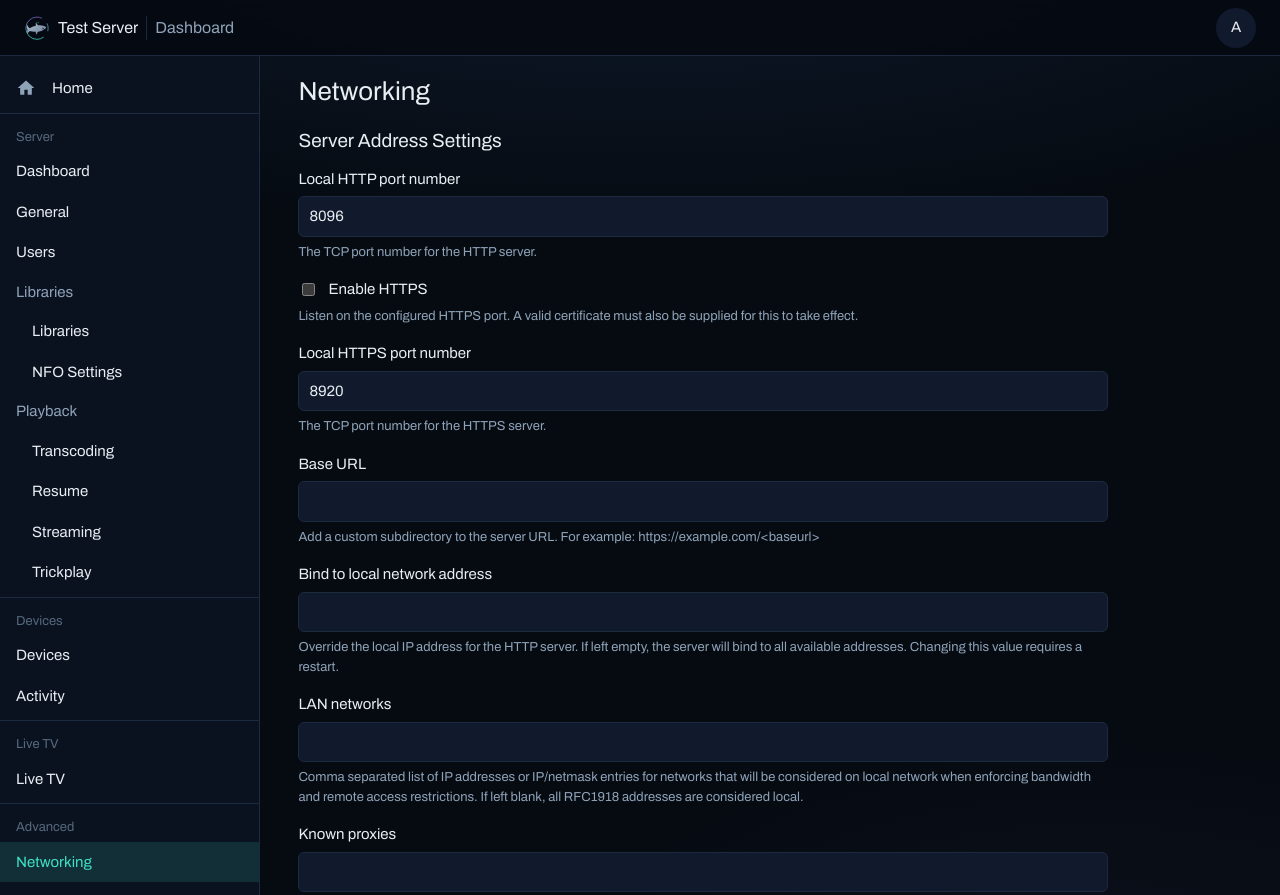
Scenario: networking › saves lists from comma-separated text and keeps fields it does not show
Type "10.0.0.1, proxy.lan," into the field labelled "Known proxies" at point(703, 872), box [298,852,1108,892]
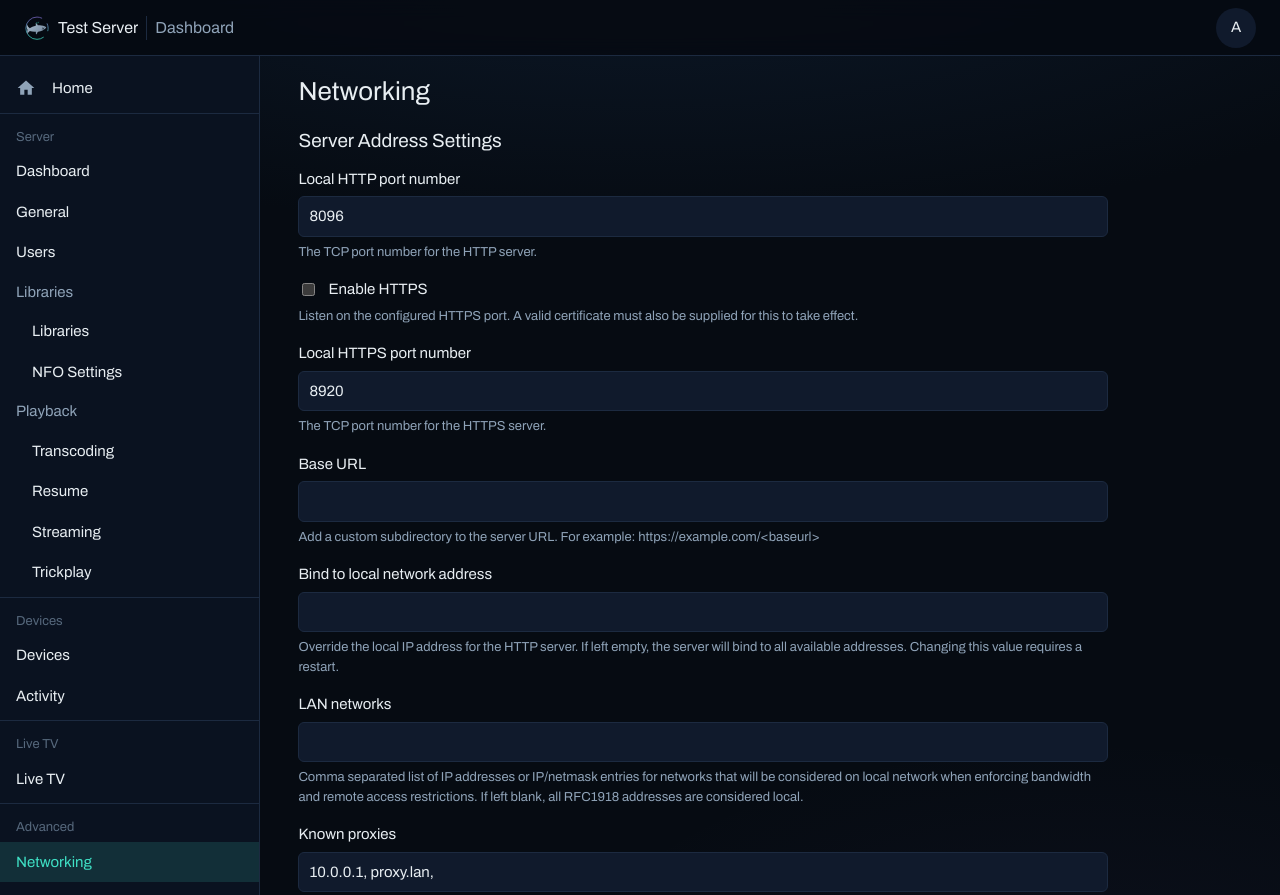
Replace the text in the number field labelled "Local HTTP port number" with "8097" at point(703, 216), box [298,196,1108,236]
(page scrolled)
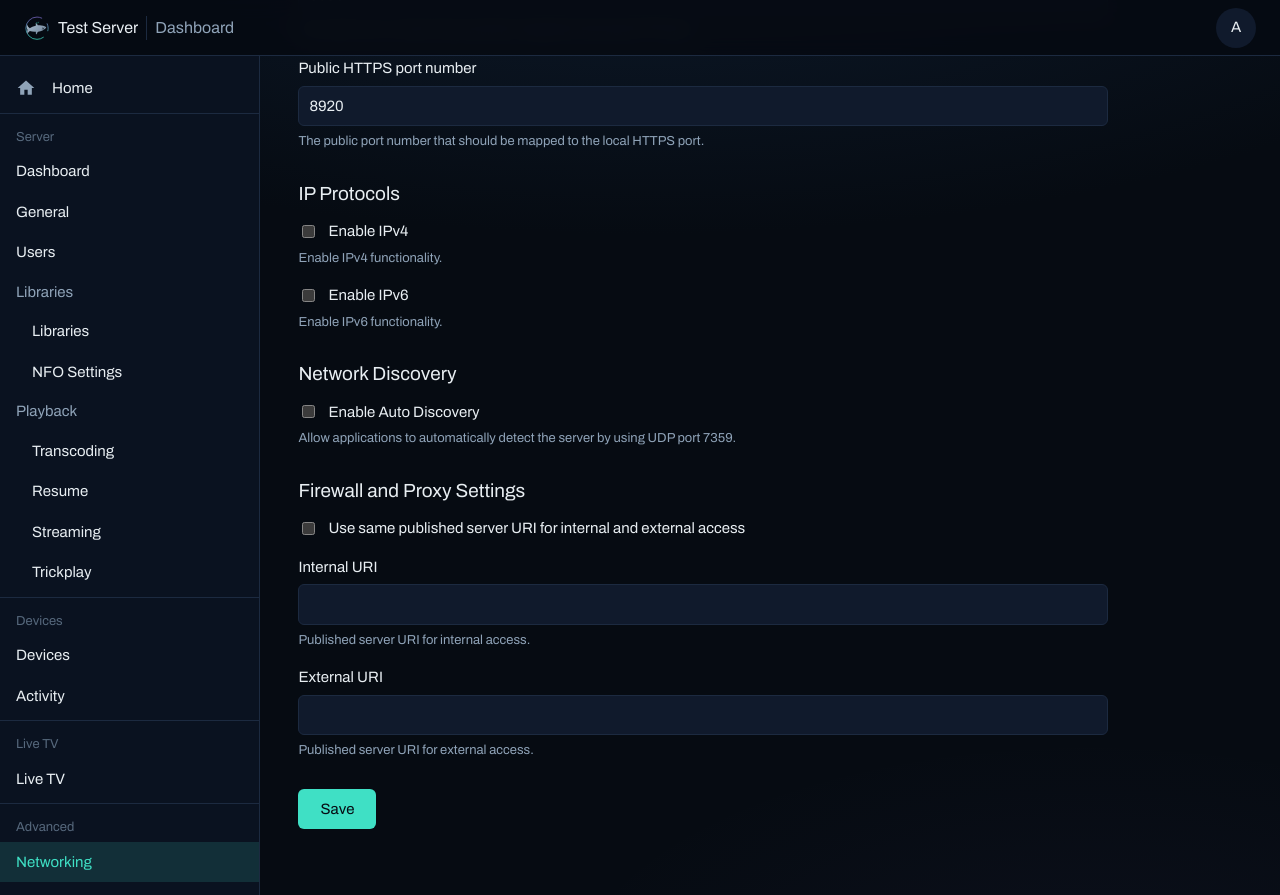
Click the button "Save" at point(337, 809), box [298,788,376,829]
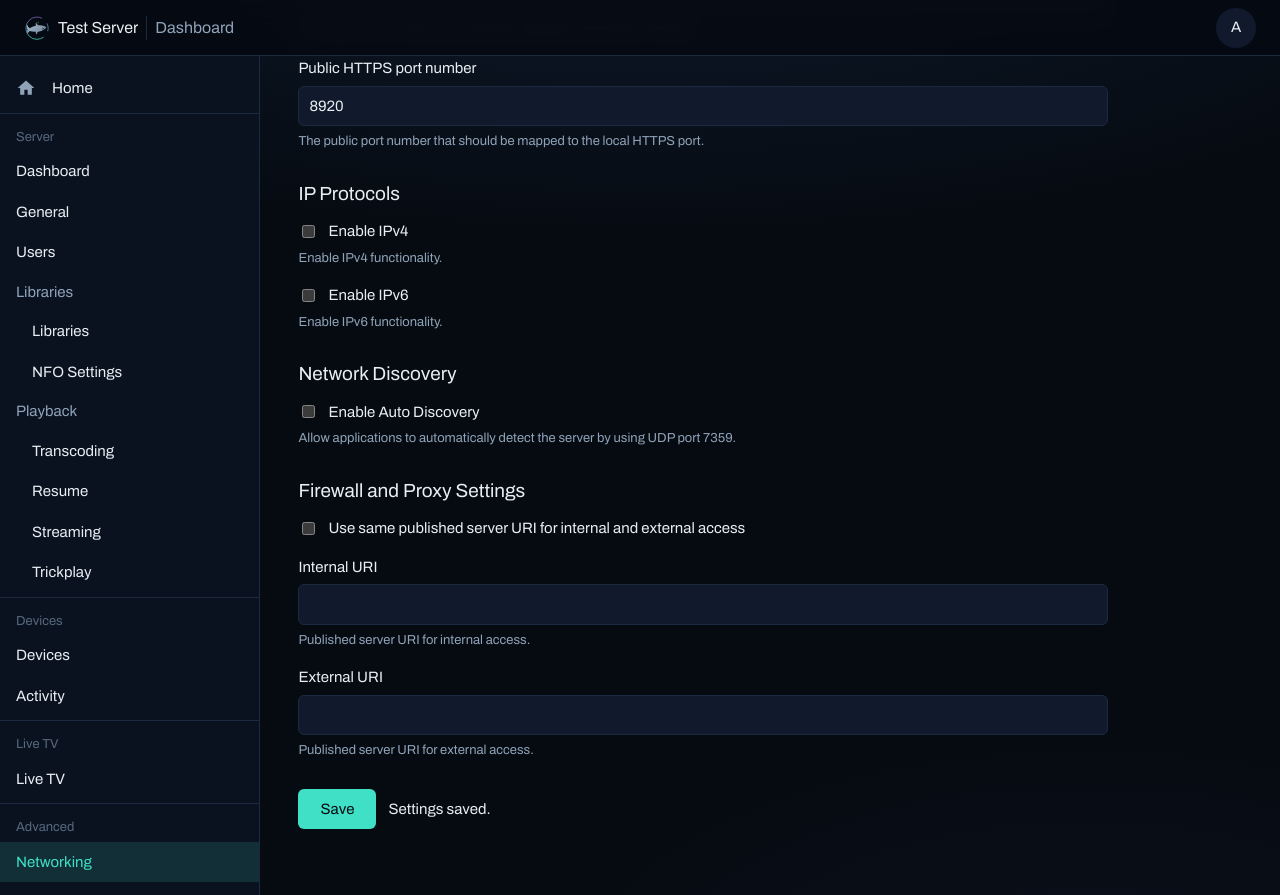
Expected: the text "Settings saved." is shown, [388,798,491,820]
